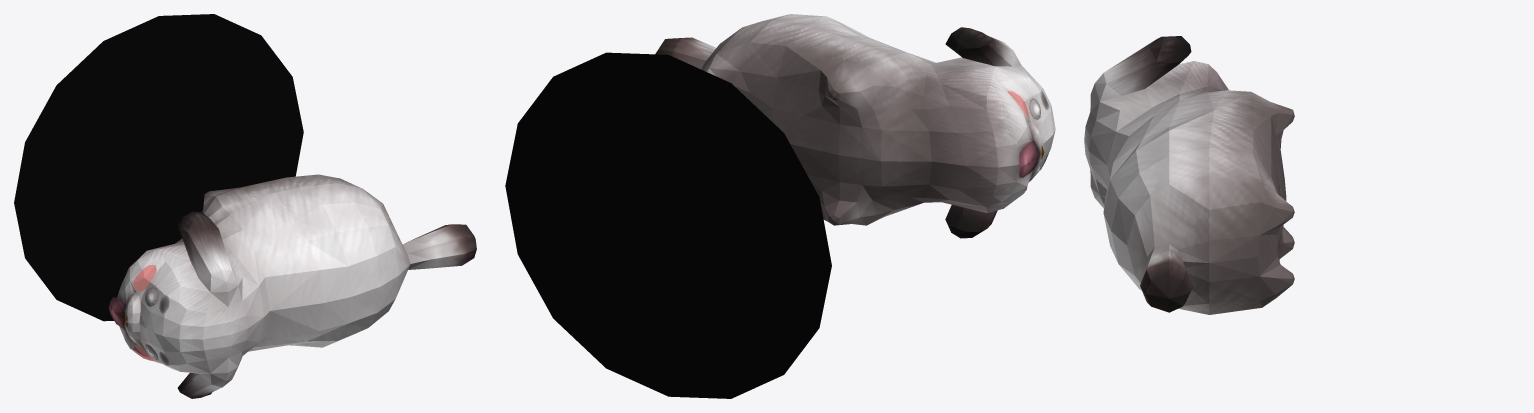
3 views of the same model, side by side, from view 1: azimuth 30°, elevation 25°; view 2: azimuth 150°, elevation 25°; view 3: azimuth 270°, elevation 25° (orthographic). The views are drawn at different scales.
Parts seen in each view (by area): view 1: M_0008_0; view 2: M_0008_0; view 3: M_0008_0.
Boxes of the visible parts, <box> form: M_0008_0: <box>14,14,476,398</box>; M_0008_0: <box>505,14,1055,398</box>; M_0008_0: <box>1084,36,1294,314</box>.
Size of the model in its own units: 1.35 by 1.13 by 1.28.
Materials: 1 (1 with a texture image).
